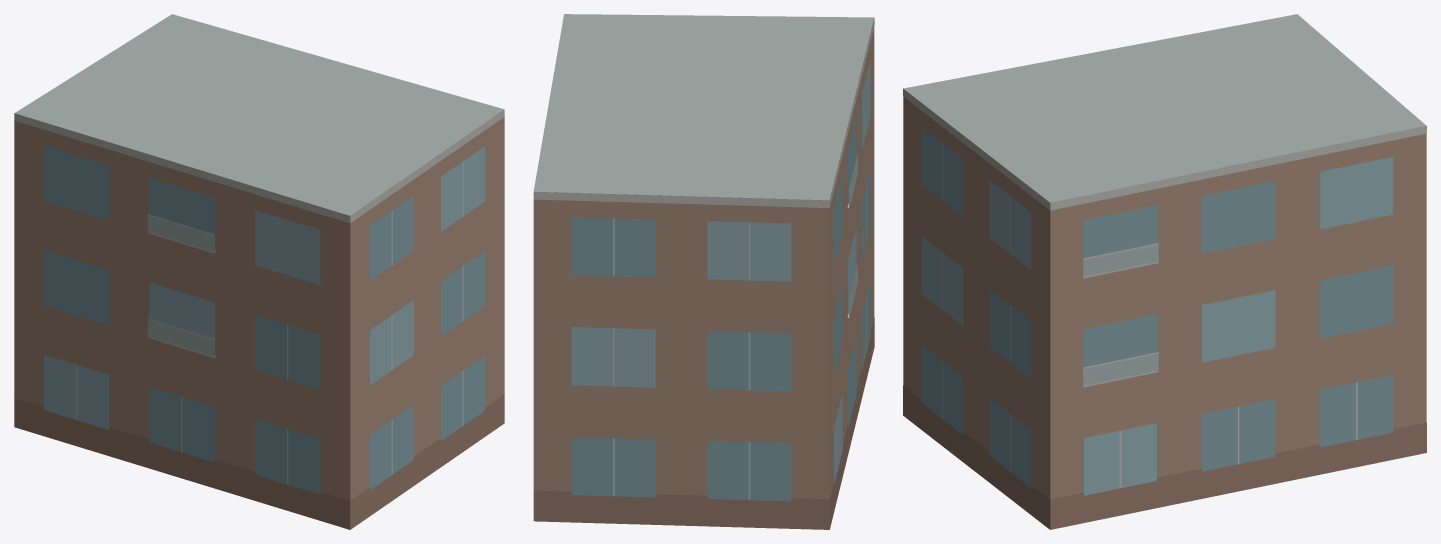
File: survey-upis-32730994.glb
3 renders of one model, left to right at view 1: azimuth 30°, elevation 25°; view 2: azimuth 150°, elevation 25°; view 3: azimuth 270°, elevation 25°, orthographic. The views are drawn at different scales.
Visible parts, largest first — view 1: survey-upis-32730994.tmp; view 2: survey-upis-32730994.tmp; view 3: survey-upis-32730994.tmp.
Part boxes in pixels (left/top/right/bottom): survey-upis-32730994.tmp: left=14, top=14, right=504, bottom=529; survey-upis-32730994.tmp: left=533, top=14, right=874, bottom=529; survey-upis-32730994.tmp: left=903, top=14, right=1426, bottom=529.
Size of the model in its own units: 12.77 by 10.3 by 14.96.
